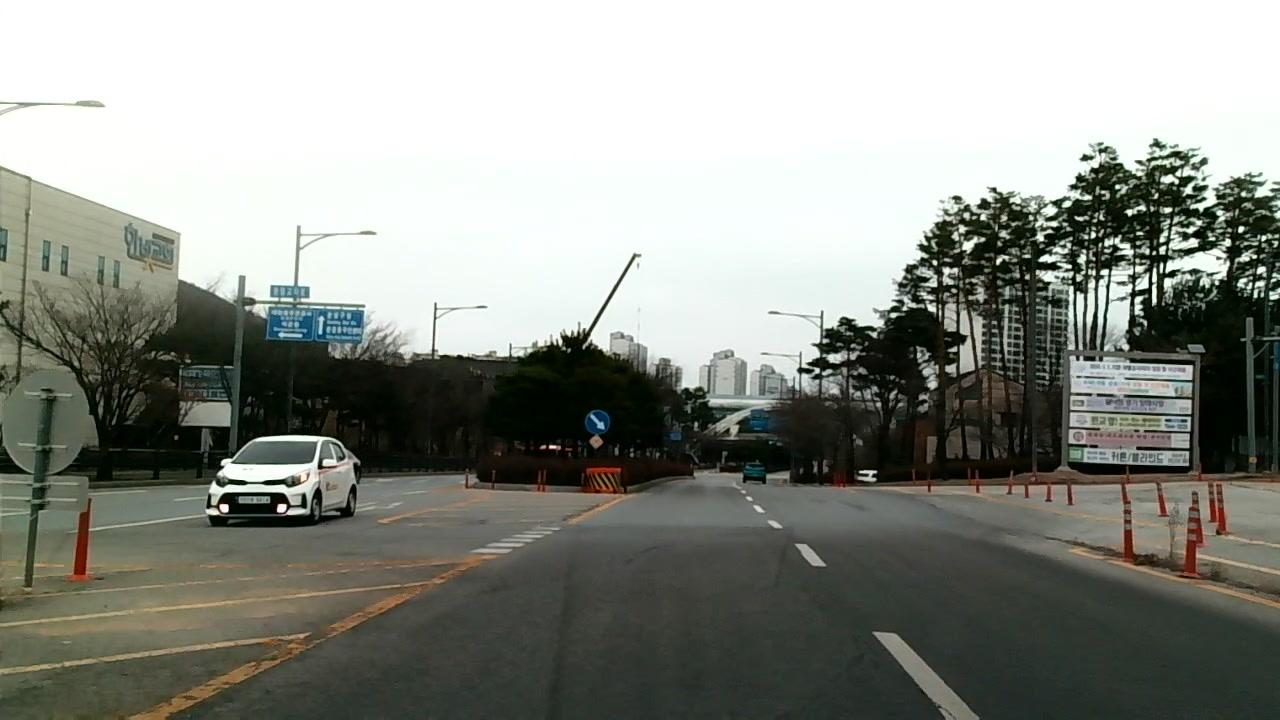banner: (1065, 445, 1191, 467), (1066, 428, 1192, 449), (1070, 360, 1195, 381), (1068, 411, 1193, 432), (1067, 395, 1194, 415), (1070, 377, 1193, 397)
